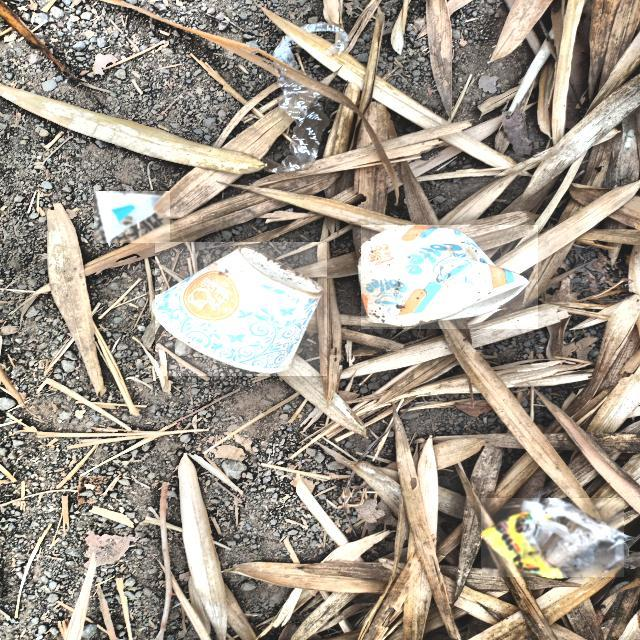anorganik: (155, 243, 327, 375), (362, 226, 537, 329), (482, 499, 624, 576), (95, 192, 169, 243)
